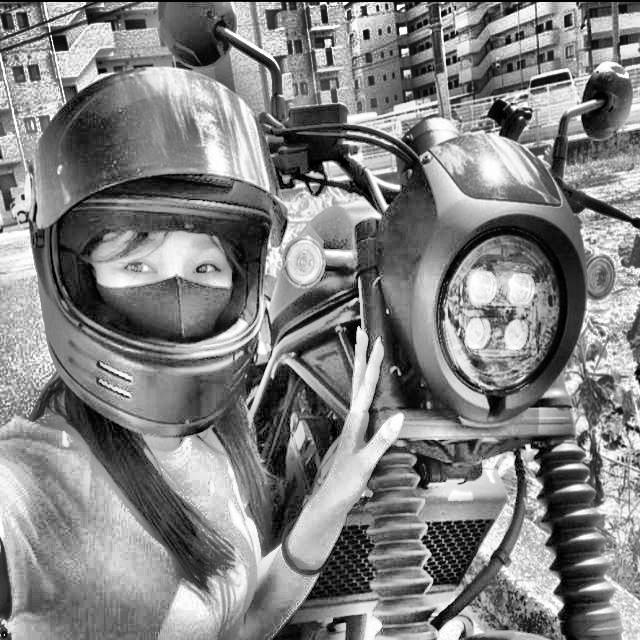Helmet: (24, 59, 292, 448)
